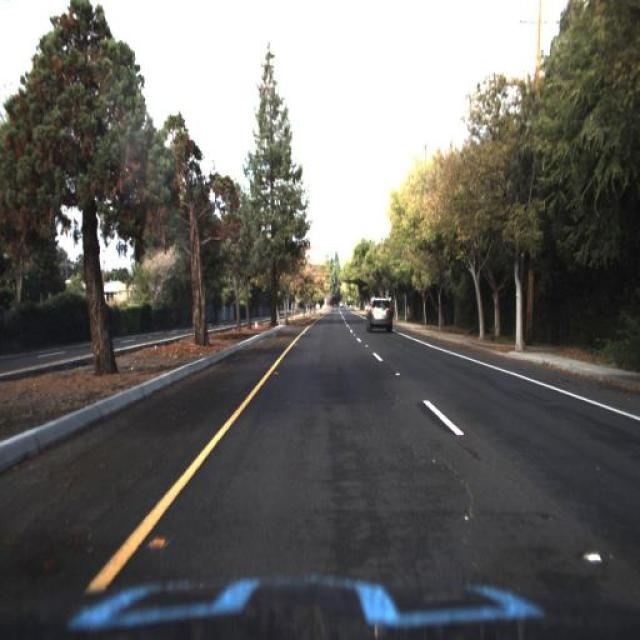car: (366, 296, 395, 336)
